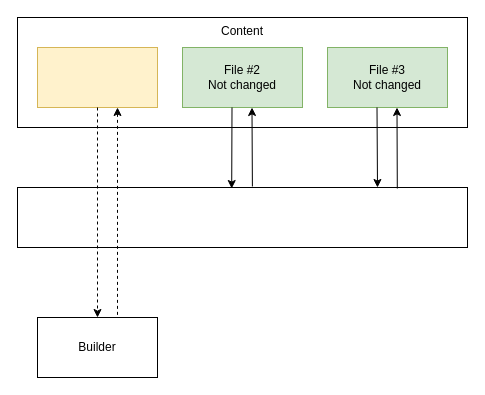
Some shapes in this 485 by 395 pixel diagram are drawn without their labels. Each missing label, with the centre of its shape:
File #1 Changed: the point at 97,77
Version Control System: the point at 242,217
